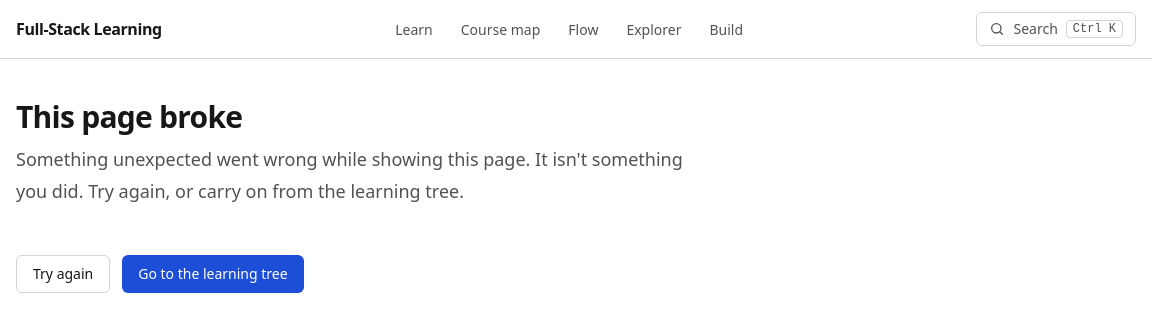
RouteErrorBoundary › keeps the header and offers a way forward when a page crashes
expect the heading "This page broke" is shown: met, box [16,96,242,137]
expect the header is shown: met, box [0,0,1151,59]
Click the button "Try again": [63, 274] box [16,255,110,293]
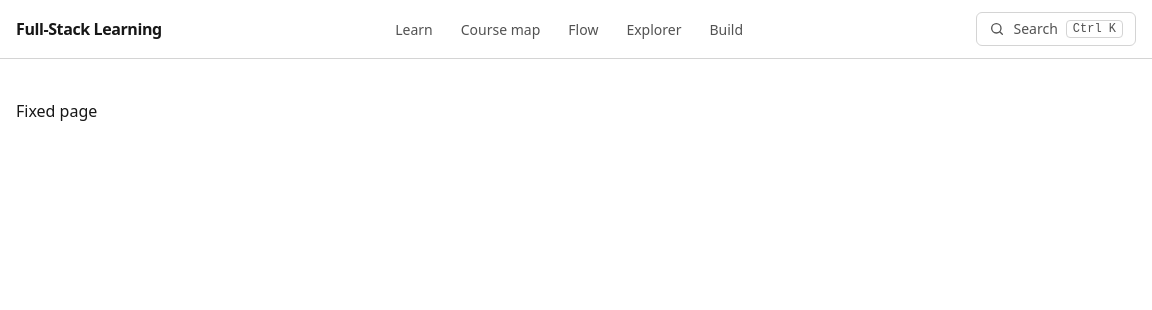
expect the heading "Fixed page" is shown: met, box [16,100,97,122]
